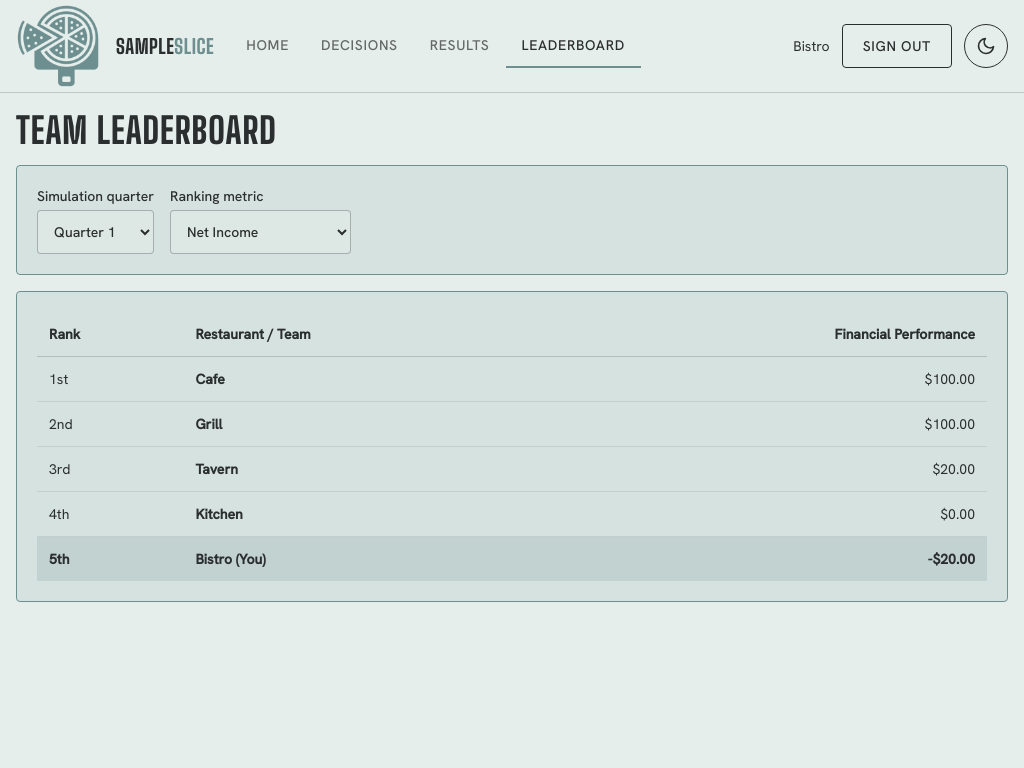
Test case: sorts each metric, breaks ties by firm, highlights the student, and hides unimported Q2
Check: the table named "Quarter 1 team leaderboard" is shown, box [37, 312, 987, 581]
Check: the row "5th Bistro (You) -$20.00" is shown, box [37, 536, 987, 581]
Select "Total Sales / Revenue" in the dropdown labelled "Ranking metric" at (260, 232), box [170, 210, 351, 254]
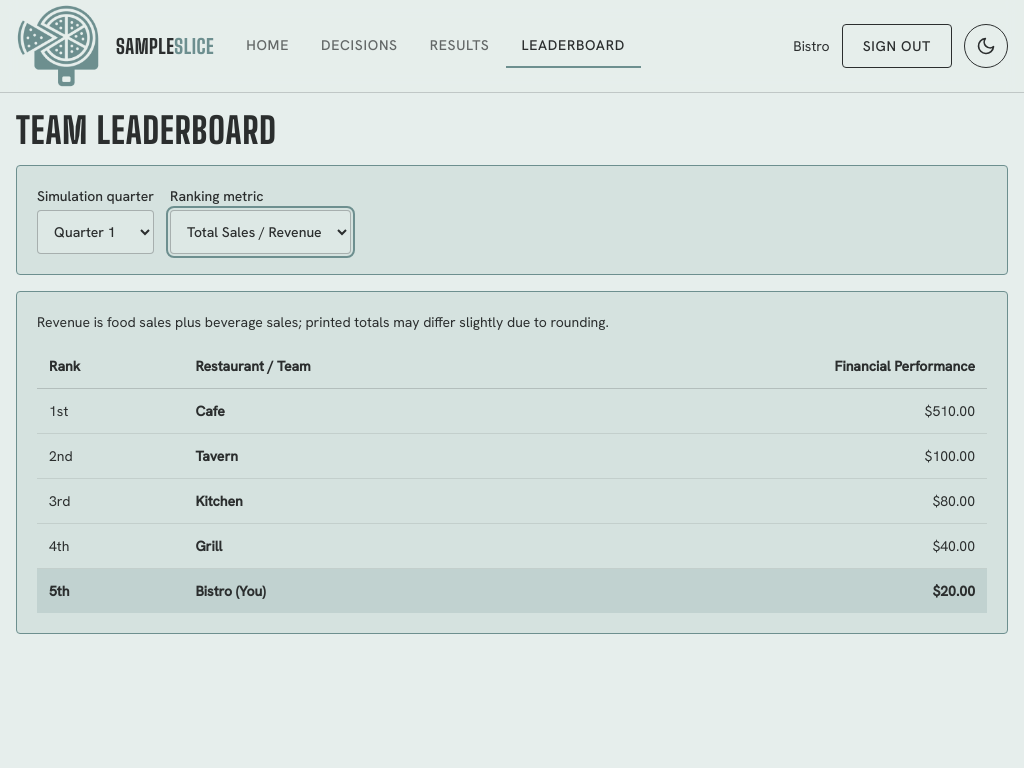
Check: the text "Revenue is food sales plus beverage sales" is shown, box [37, 313, 609, 331]
Select "Operating Profit" in the dropdown labelled "Ranking metric" at (260, 232), box [170, 210, 351, 254]
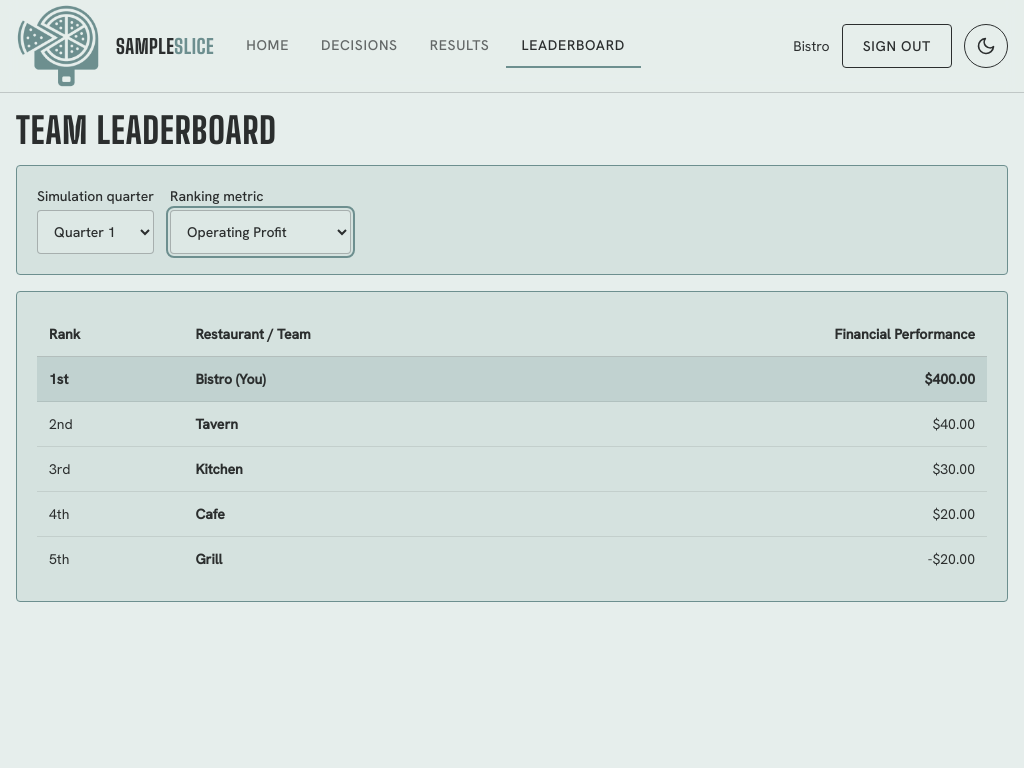
Select "Quarter 2" in the dropdown labelled "Simulation quarter" at (96, 232), box [37, 210, 154, 254]
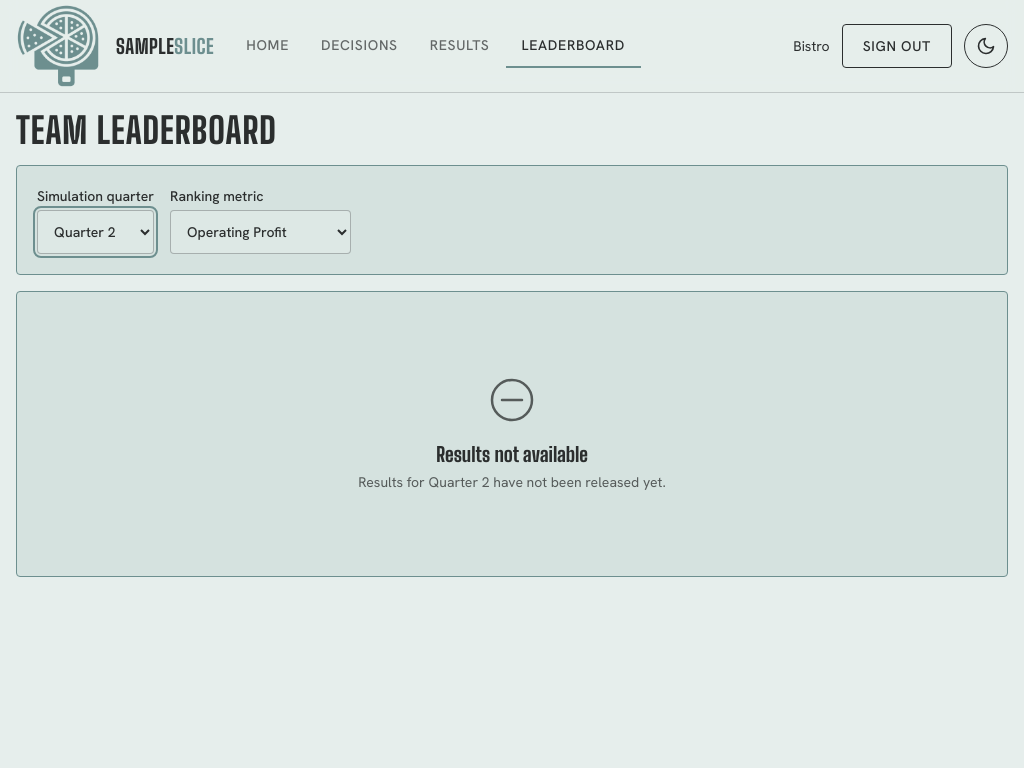
Check: the text "Results for Quarter 2 have not been released yet." is shown, box [358, 472, 666, 492]
Check: the table is gone
Select "Quarter 1" in the dropdown labelled "Simulation quarter" at (96, 232), box [37, 210, 154, 254]
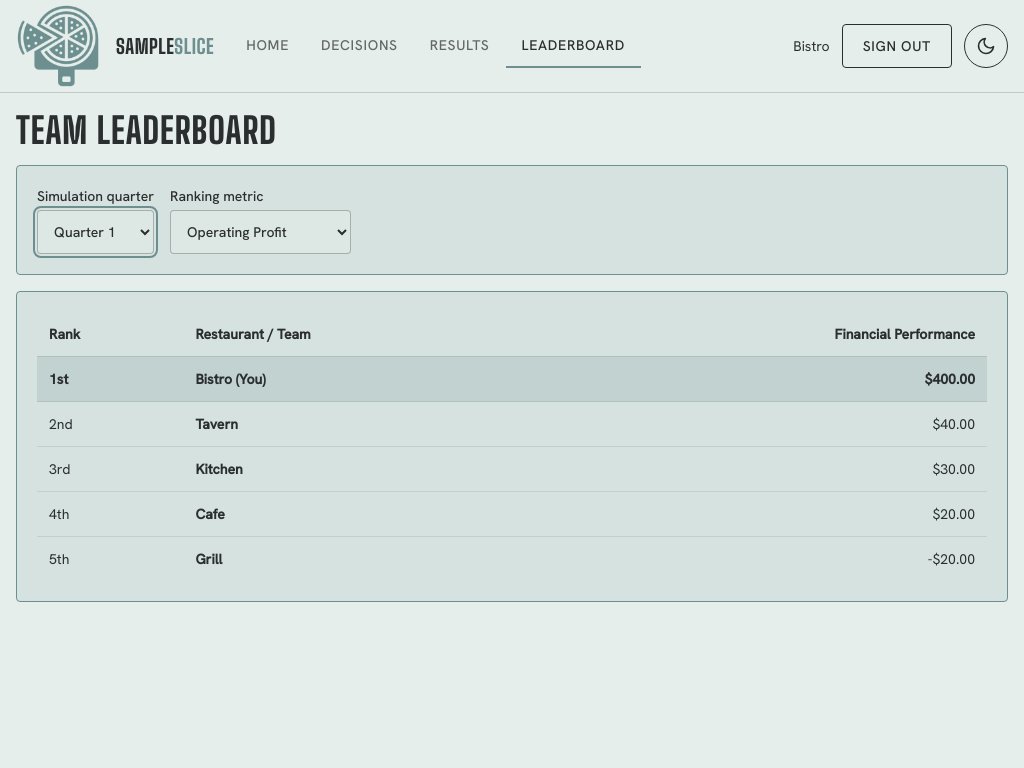
Check: the table named "Quarter 1 team leaderboard" is shown, box [37, 312, 987, 581]
